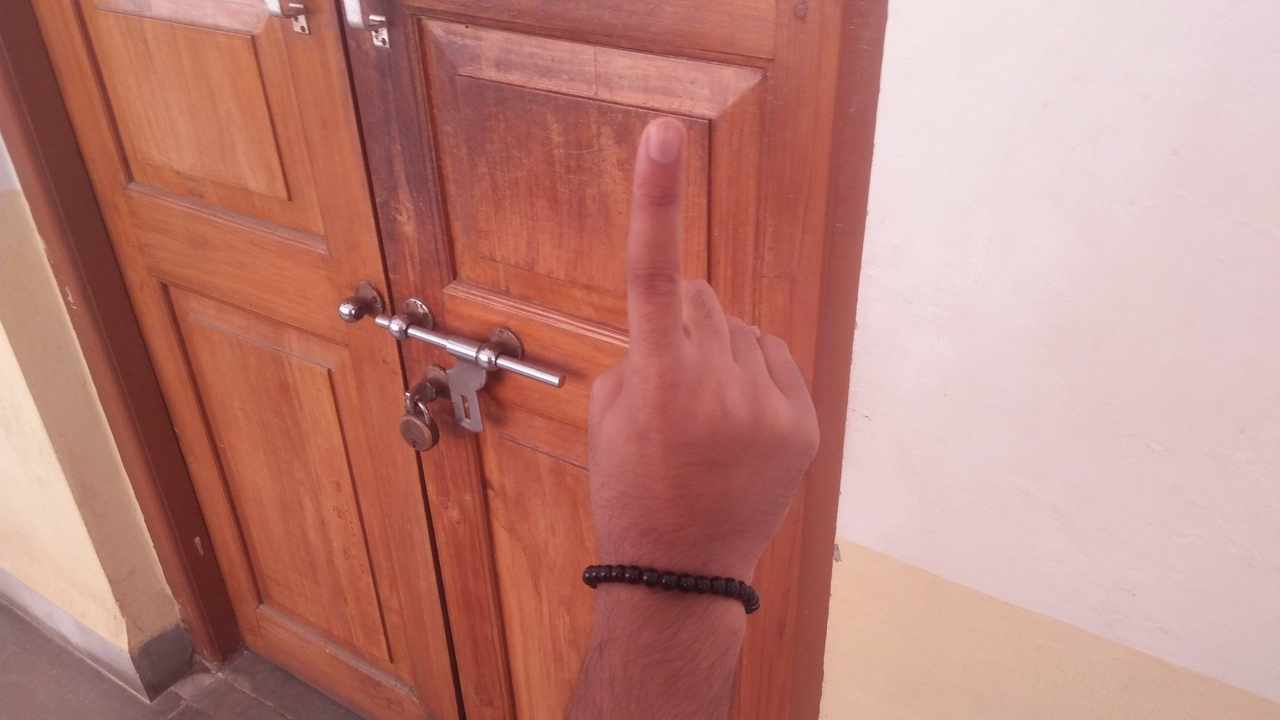fingertip: (628, 118, 692, 174)
